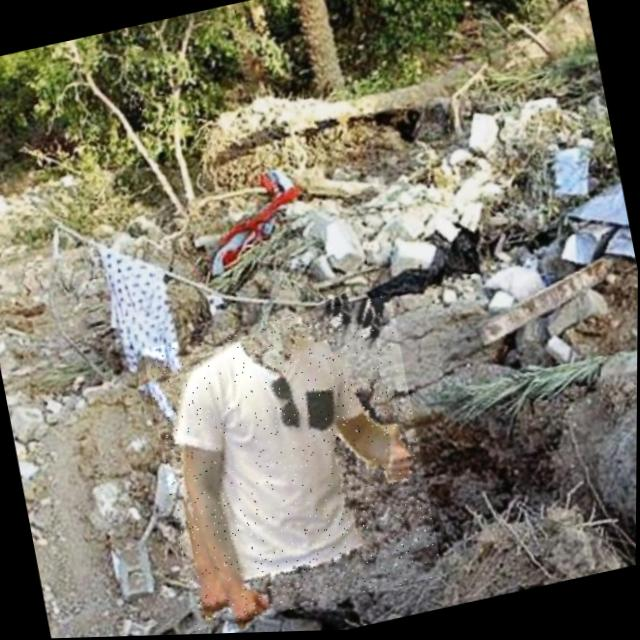Person in Rubble: (142, 296, 446, 634)
